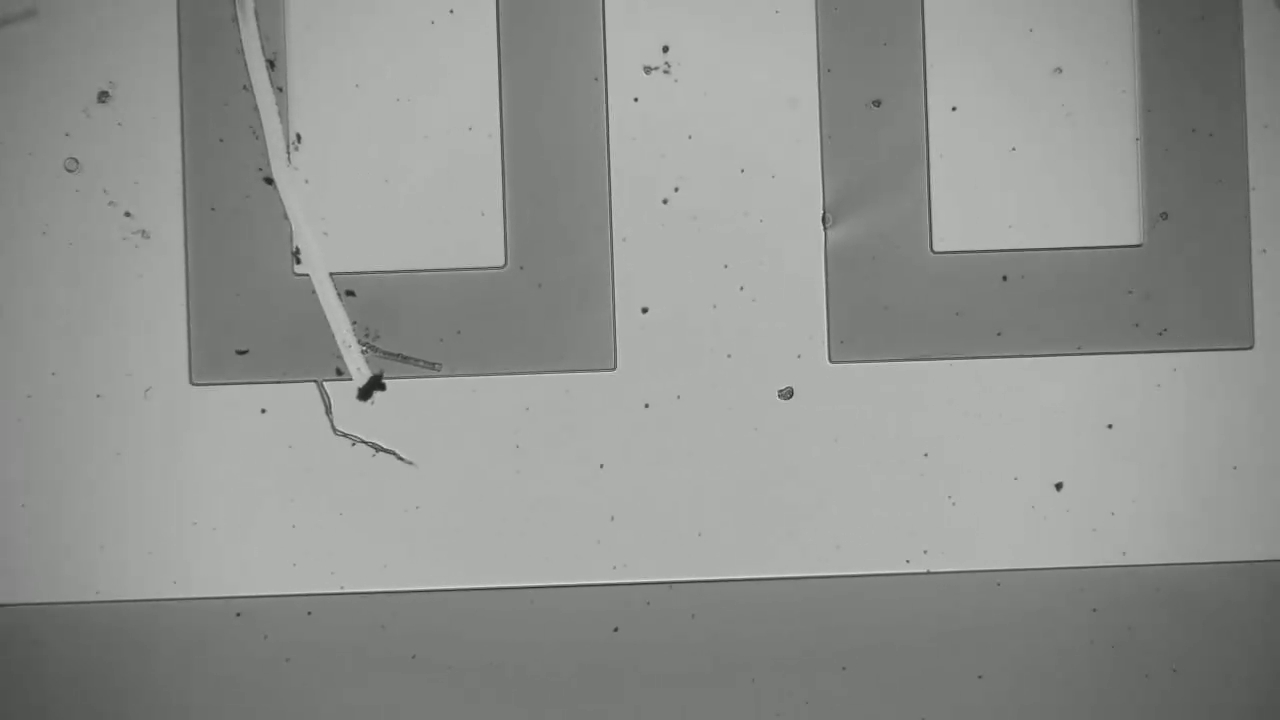Short_circuit: (302, 249, 411, 412)
